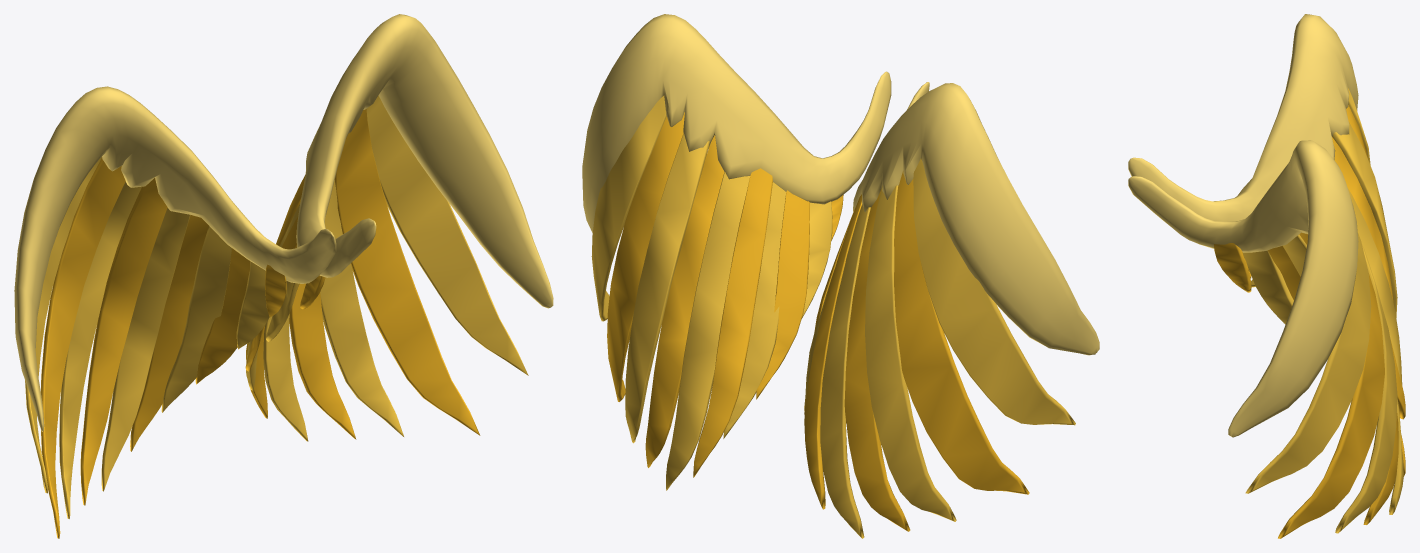
File: wings.fbx
3 views of the same model, side by side, from view 1: azimuth 30°, elevation 25°; view 2: azimuth 150°, elevation 25°; view 3: azimuth 270°, elevation 25° (orthographic). The views are drawn at different scales.
Visible parts, largest first — view 1: wing1, wing2; view 2: wing2, wing1; view 3: wing2, wing1.
Part boxes in pixels (x1,y1,x2,y2): wing1: (14,86,336,538); wing2: (245,14,553,441); wing2: (582,14,891,490); wing1: (804,82,1099,538); wing2: (1128,140,1405,538); wing1: (1128,14,1405,419).
Size of the model in its own units: 84.29 by 70.46 by 45.18.
